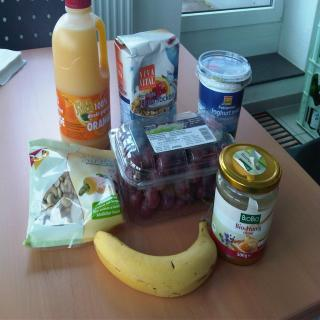Banana: (93, 218, 217, 300)
